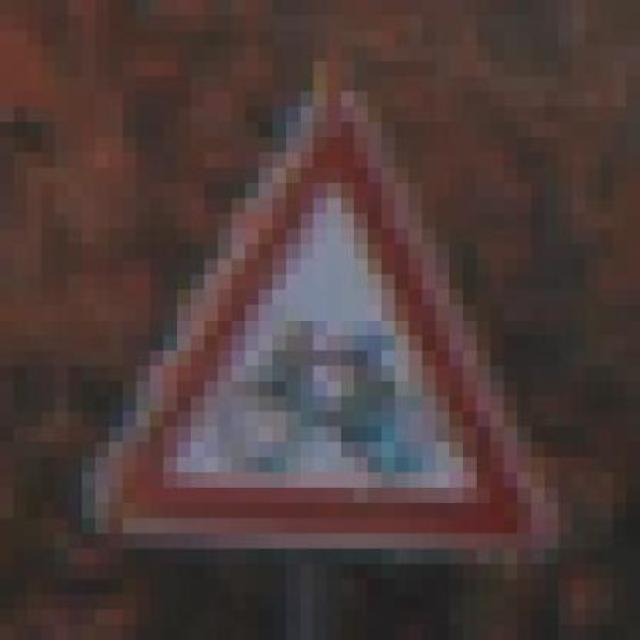CYCLE ROUTE AHEAD WARNING: (82, 30, 572, 564)
